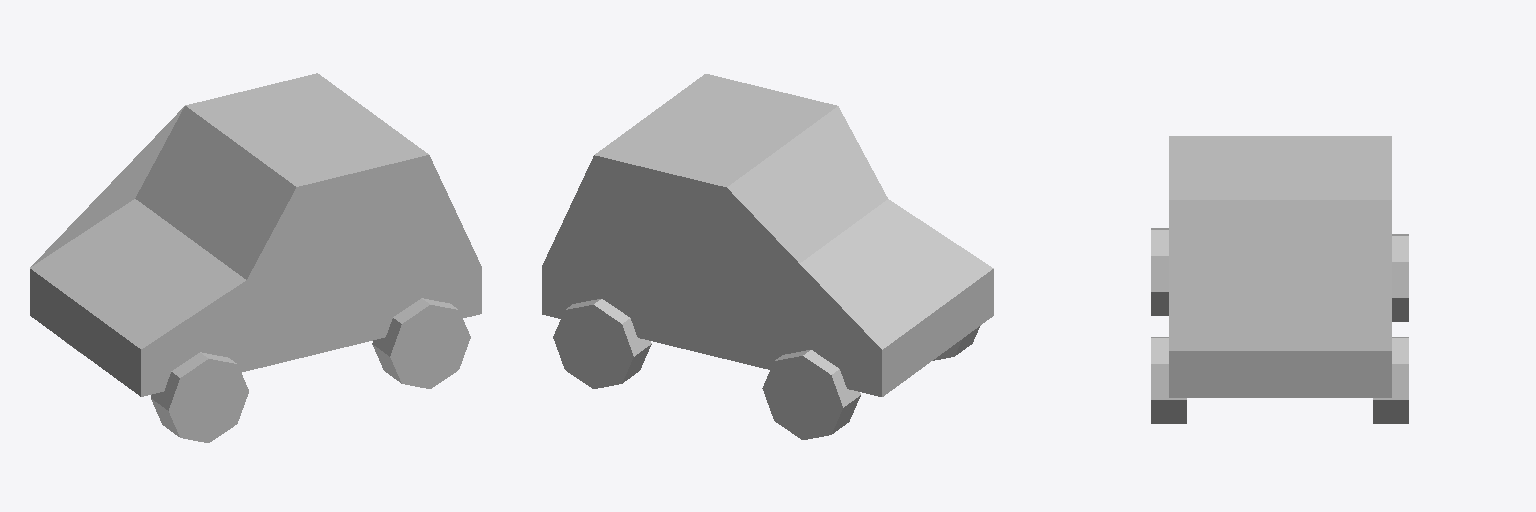
File: testcar.obj
3 renders of one model, left to right at view 1: azimuth 30°, elevation 25°; view 2: azimuth 150°, elevation 25°; view 3: azimuth 270°, elevation 25°, orthographic.
Parts seen in each view (by area): view 1: Cube; view 2: Cube; view 3: Cube.
Part boxes in pixels (x1,y1,x2,y2): Cube: (30,73,481,442); Cube: (542,74,993,439); Cube: (1151,136,1408,423).
Bounding box in the file's own units: 3.53 × 2.24 × 2.31.